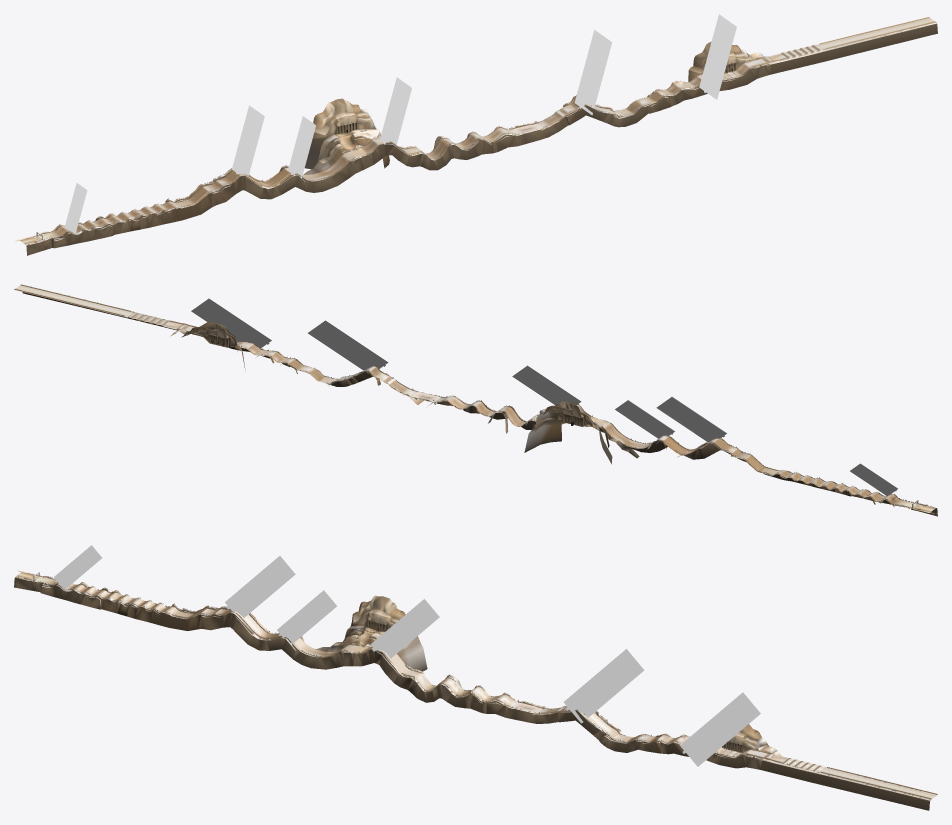
The model's file is Desert_12.fbx.
3 renders of one model, top to bottom at view 1: azimuth 30°, elevation 25°; view 2: azimuth 150°, elevation 25°; view 3: azimuth 330°, elevation 25°, orthographic.
Visible parts, largest first — view 1: Mountain_01, Light_01, Road_01, Ground_01, Tree_01, Leak_01; view 2: Light_01, Mountain_01, Road_01, Ground_01, Tree_01, Leak_01; view 3: Mountain_01, Light_01, Road_01, Ground_01, Tree_01, Leak_01.
Part boxes in pixels (bbox=[...]): Mountain_01: bbox=[25, 23, 937, 255]; Light_01: bbox=[64, 14, 736, 233]; Road_01: bbox=[20, 18, 934, 244]; Ground_01: bbox=[25, 18, 935, 244]; Tree_01: bbox=[26, 21, 936, 244]; Leak_01: bbox=[182, 17, 935, 206]; Light_01: bbox=[191, 298, 897, 495]; Mountain_01: bbox=[22, 292, 937, 516]; Road_01: bbox=[15, 285, 935, 512]; Ground_01: bbox=[14, 289, 935, 512]; Tree_01: bbox=[31, 286, 934, 510]; Leak_01: bbox=[14, 284, 777, 470]; Mountain_01: bbox=[14, 576, 930, 810]; Light_01: bbox=[53, 545, 760, 766]; Road_01: bbox=[17, 572, 936, 799]; Ground_01: bbox=[16, 576, 936, 799]; Tree_01: bbox=[18, 573, 930, 800]; Leak_01: bbox=[174, 612, 937, 798].
Bounding box in the file's own units: 124981 × 12069 × 8307.
